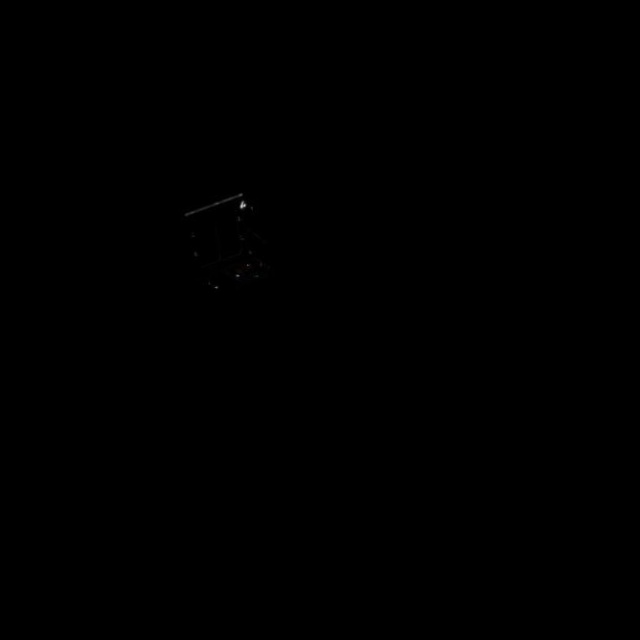satellite: (170, 172, 266, 315)
